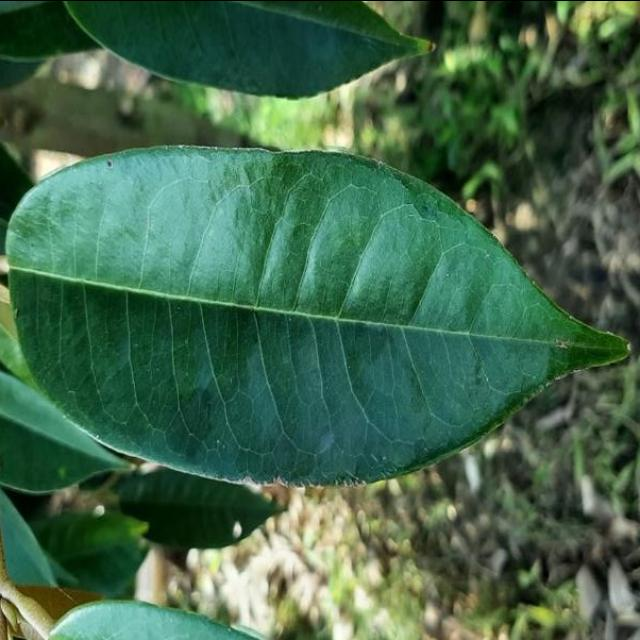No Disease: (0, 149, 638, 500)
